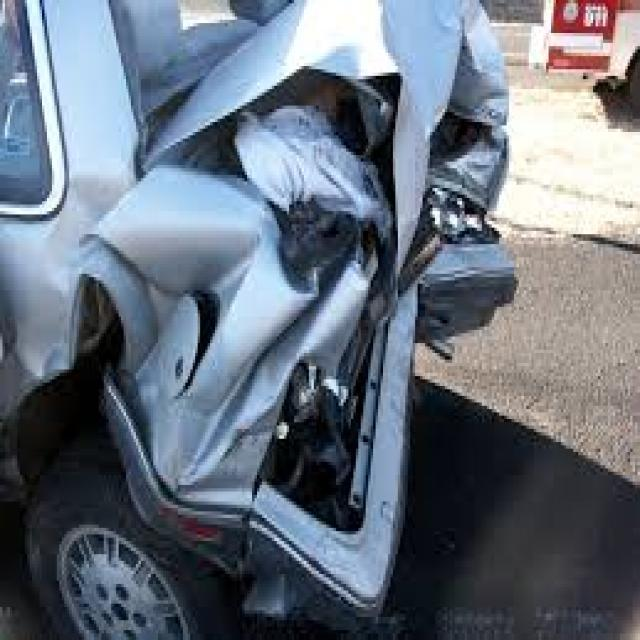severe: (54, 13, 466, 628)
